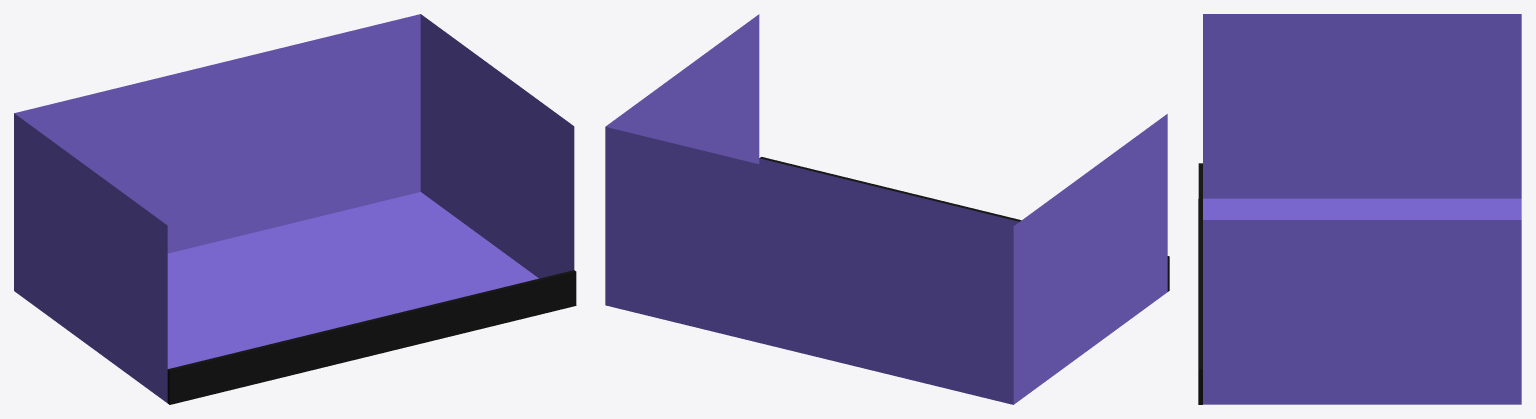
The model's file is Frame.fbx.
3 views of the same model, side by side, from view 1: azimuth 30°, elevation 25°; view 2: azimuth 150°, elevation 25°; view 3: azimuth 270°, elevation 25° (orthographic). The views are drawn at different scales.
Visible parts, largest first — view 1: Cube; view 2: Cube; view 3: Cube.
Part boxes in pixels (box(x1,y1,x2,y2)): Cube: box(14, 14, 576, 404); Cube: box(605, 14, 1169, 404); Cube: box(1198, 14, 1521, 404).
Bounding box in the file's own units: 11063 × 4621 × 7328.
